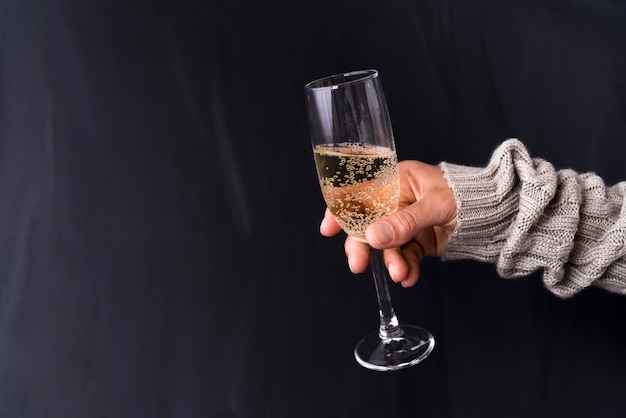alcohol: (303, 68, 437, 374)
